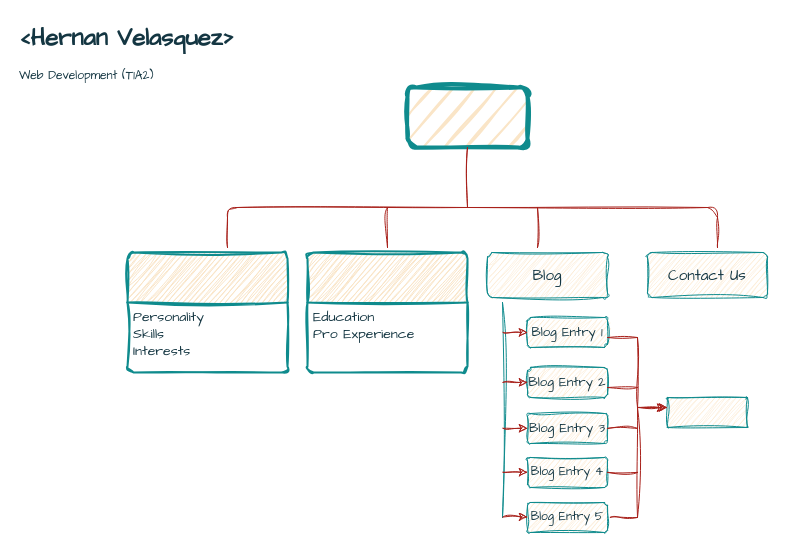
Image size: 785x550. Some labels were removed from this diagram. The shapes that lost their labels are listed below. From the top down, each one's box as (x1, y1, x2, y2) in pixels, then its label:
(405, 85, 529, 149): HV - Home
(126, 251, 288, 373): Home
(306, 251, 468, 373): About
(666, 396, 748, 428): Gen. blog post
